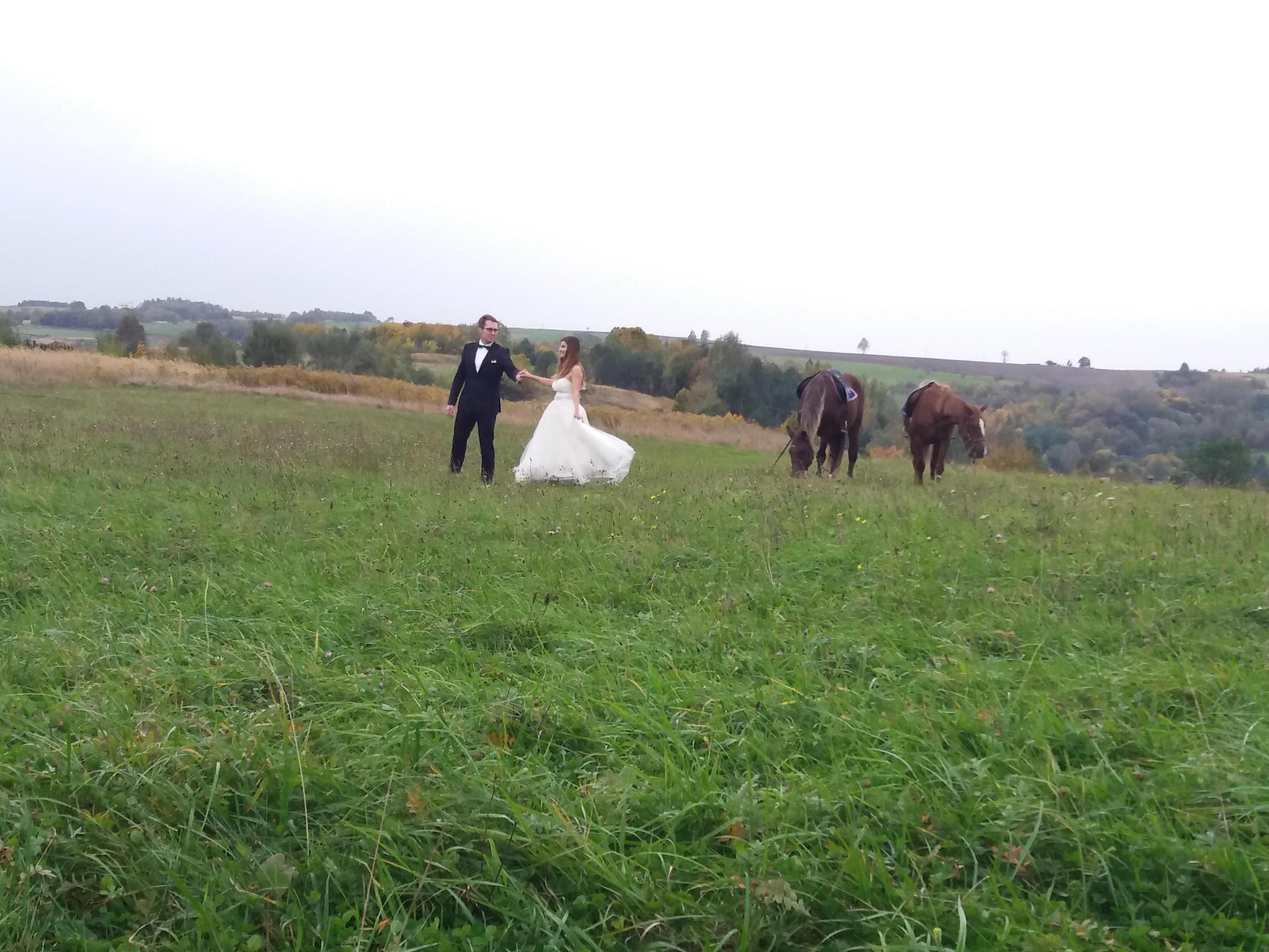horse: (901, 379, 988, 485), (786, 369, 864, 480)
